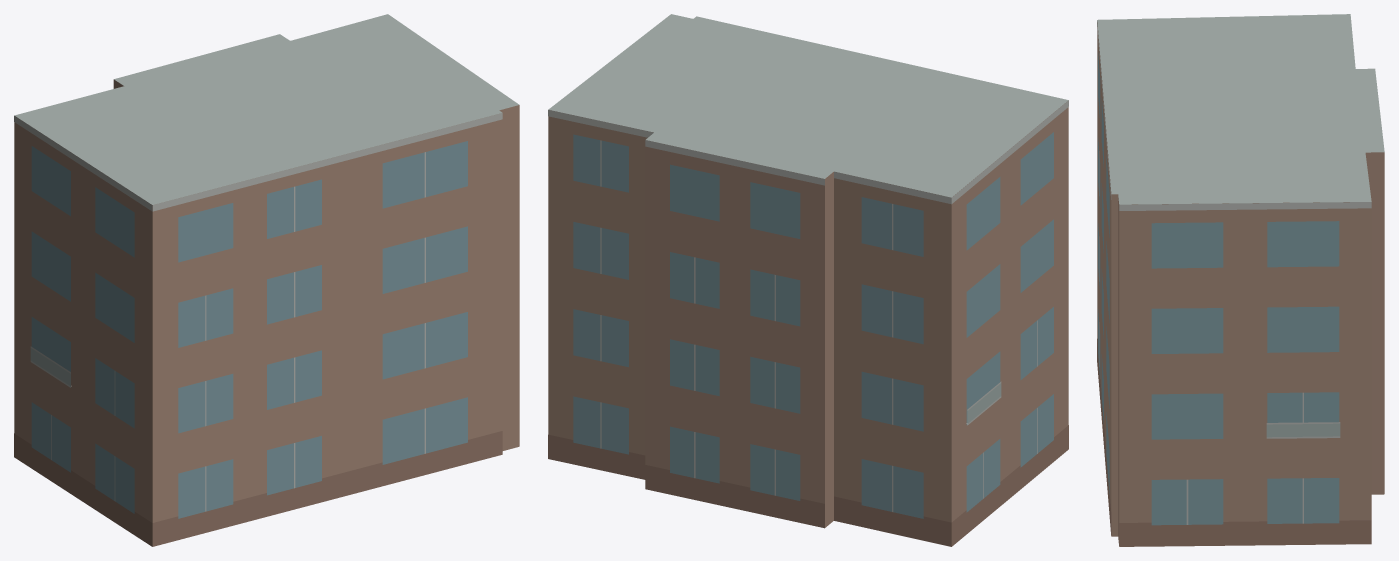
File: survey-upis-32732772.glb
The picture shows the model from 3 angles, left to right: view 1: azimuth 30°, elevation 25°; view 2: azimuth 150°, elevation 25°; view 3: azimuth 270°, elevation 25°; orthographic projection. The views are drawn at different scales.
Visible parts, largest first — view 1: survey-upis-32732772.tmp; view 2: survey-upis-32732772.tmp; view 3: survey-upis-32732772.tmp.
Boxes of the visible parts, x1,y1,x2,y2 form: survey-upis-32732772.tmp: (14, 14, 519, 546); survey-upis-32732772.tmp: (548, 14, 1068, 546); survey-upis-32732772.tmp: (1097, 14, 1384, 546).
Bounding box in the file's own units: 15.29 × 12.8 × 9.75.
